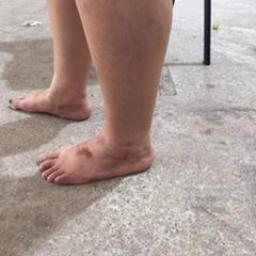Lateral View -Left Foot-: (33, 116, 162, 188)
